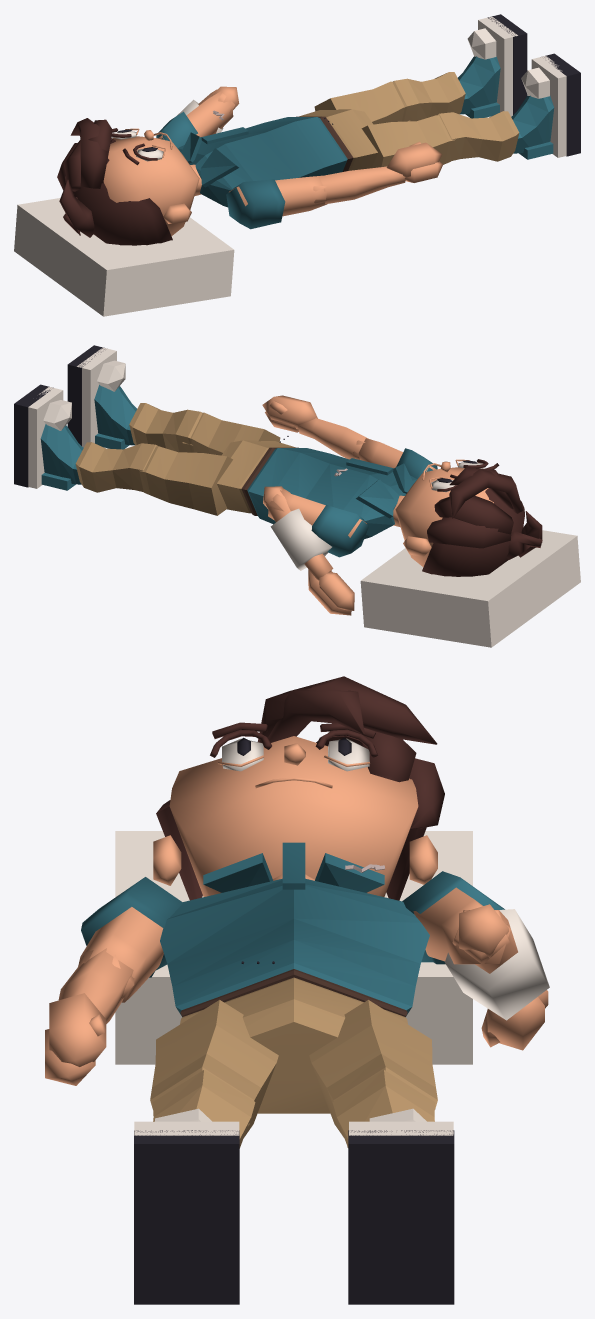
The picture shows the model from 3 angles, top to bottom: view 1: azimuth 30°, elevation 25°; view 2: azimuth 150°, elevation 25°; view 3: azimuth 270°, elevation 25°; orthographic projection. The views are drawn at different scales.
Parts seen in each view (by area): view 1: restCushion_pal_picketWhite, torso_pal_polo.001, head_pal_hairChestnut.001, head_pal_skinWarm.001, shinR_pal_khaki.001, legR_pal_khaki.001, shinL_pal_khaki.001, footR_pal_picketWhite.001, footL_pal_picketWhite.001, armR_pal_polo.001, footR_pal_polo.001, footL_pal_polo.001 (+11 smaller); view 2: restCushion_pal_picketWhite, head_pal_hairChestnut.001, torso_pal_polo.001, legL_pal_khaki.001, head_pal_skinWarm.001, shinL_pal_khaki.001, shinR_pal_khaki.001, footL_pal_picketWhite.001, footR_pal_picketWhite.001, hip_pal_khaki.001, footL_pal_polo.001, footR_pal_polo.001 (+13 smaller); view 3: torso_pal_polo.001, head_pal_skinWarm.001, footL_pal_uiDark.001, footR_pal_uiDark.001, head_pal_hairChestnut.001, restCushion_pal_picketWhite, hip_pal_khaki.001, legL_pal_khaki.001, legR_pal_khaki.001, foreArmL_pal_picketWhite.001, handR_pal_skinWarm.001, armR_pal_skinWarm.001 (+12 smaller).
Boxes of the visible parts, x1=… form: restCushion_pal_picketWhite: x1=14, y1=198, x2=234, y2=316; torso_pal_polo.001: x1=178, y1=117, x2=347, y2=207; head_pal_hairChestnut.001: x1=57, y1=118, x2=172, y2=245; head_pal_skinWarm.001: x1=103, y1=128, x2=201, y2=236; shinR_pal_khaki.001: x1=437, y1=111, x2=519, y2=161; legR_pal_khaki.001: x1=361, y1=115, x2=455, y2=168; shinL_pal_khaki.001: x1=392, y1=72, x2=465, y2=121; footR_pal_picketWhite.001: x1=521, y1=56, x2=566, y2=157; footL_pal_picketWhite.001: x1=467, y1=16, x2=517, y2=116; armR_pal_polo.001: x1=226, y1=179, x2=285, y2=229; footR_pal_polo.001: x1=511, y1=95, x2=554, y2=159; footL_pal_polo.001: x1=458, y1=56, x2=500, y2=118; restCushion_pal_picketWhite: x1=360, y1=530, x2=580, y2=647; head_pal_hairChestnut.001: x1=422, y1=459, x2=542, y2=576; torso_pal_polo.001: x1=247, y1=448, x2=417, y2=539; legL_pal_khaki.001: x1=139, y1=446, x2=232, y2=515; head_pal_skinWarm.001: x1=393, y1=459, x2=493, y2=567; shinL_pal_khaki.001: x1=75, y1=442, x2=157, y2=492; shinR_pal_khaki.001: x1=129, y1=403, x2=202, y2=452; footL_pal_picketWhite.001: x1=28, y1=387, x2=71, y2=488; footR_pal_picketWhite.001: x1=77, y1=347, x2=125, y2=447; hip_pal_khaki.001: x1=217, y1=440, x2=295, y2=513; footL_pal_polo.001: x1=40, y1=424, x2=83, y2=490; footR_pal_polo.001: x1=94, y1=384, x2=136, y2=449; torso_pal_polo.001: x1=160, y1=842, x2=429, y2=1015; head_pal_skinWarm.001: x1=153, y1=736, x2=437, y2=896; footL_pal_uiDark.001: x1=348, y1=1130, x2=454, y2=1304; footR_pal_uiDark.001: x1=134, y1=1130, x2=239, y2=1304; head_pal_hairChestnut.001: x1=156, y1=676, x2=444, y2=900; restCushion_pal_picketWhite: x1=115, y1=831, x2=472, y2=1064; hip_pal_khaki.001: x1=180, y1=977, x2=407, y2=1113; legL_pal_khaki.001: x1=309, y1=1000, x2=437, y2=1137; legR_pal_khaki.001: x1=150, y1=1000, x2=278, y2=1137; foreArmL_pal_picketWhite.001: x1=445, y1=909, x2=549, y2=1020; handR_pal_skinWarm.001: x1=45, y1=993, x2=106, y2=1085; armR_pal_skinWarm.001: x1=78, y1=907, x2=163, y2=1002.
Bounding box in the file's own units: 1.81 × 0.5438 × 0.8164.
